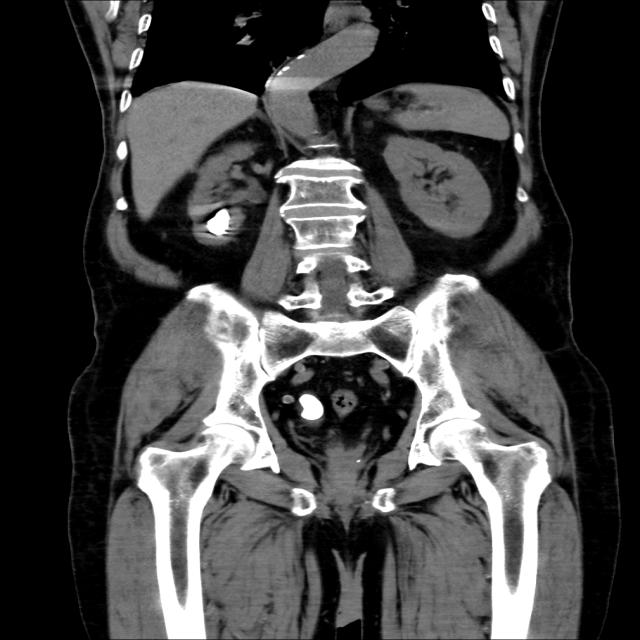kidneystone: (207, 209, 231, 236)
